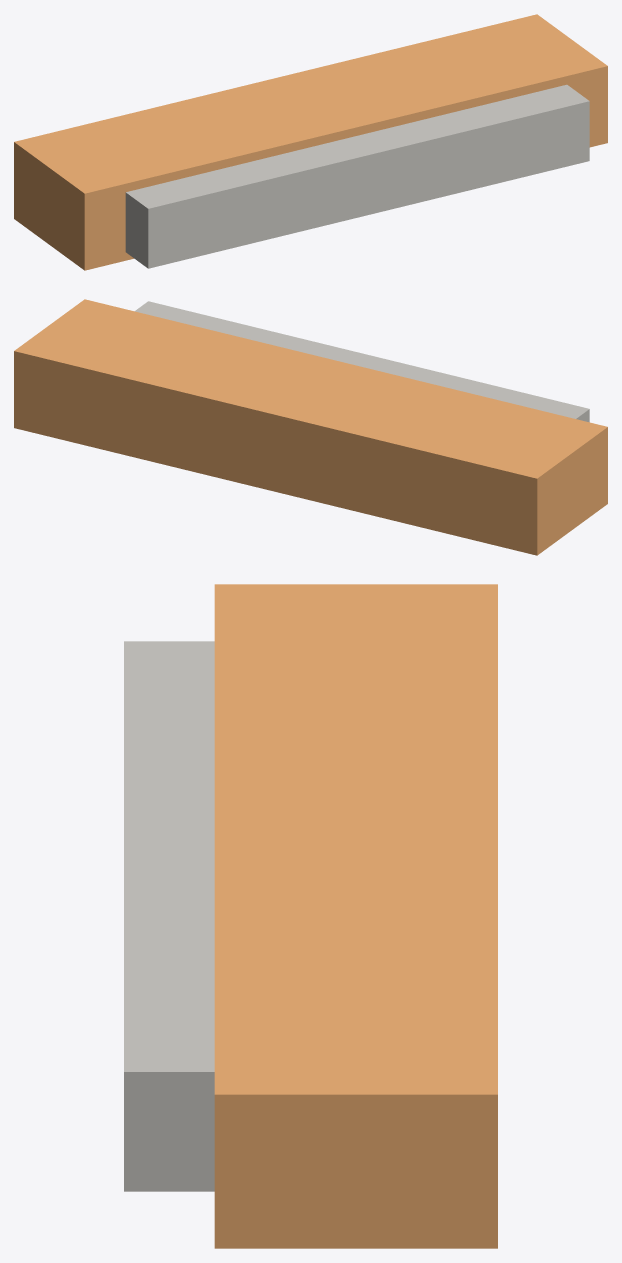
File: road_plastic_water_barrier.glb
3 renders of one model, top to bottom at view 1: azimuth 30°, elevation 25°; view 2: azimuth 150°, elevation 25°; view 3: azimuth 270°, elevation 25°, orthographic. The views are drawn at different scales.
Parts seen in each view (by area): view 1: barrier_body, barrier_top; view 2: barrier_body, barrier_top; view 3: barrier_body, barrier_top.
Boxes of the visible parts, x1,y1,x2,y2 form: barrier_body: (14, 14, 607, 270); barrier_top: (125, 84, 589, 268); barrier_body: (14, 299, 607, 555); barrier_top: (135, 301, 589, 422); barrier_body: (214, 584, 497, 1248); barrier_top: (124, 641, 214, 1191).
Size of the model in its own units: 3.2 by 0.4725 by 0.99.
